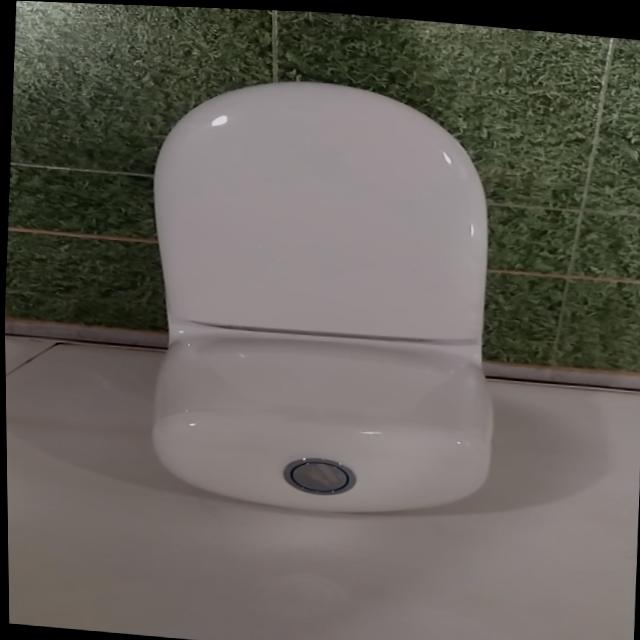toilet: (125, 59, 520, 532)
